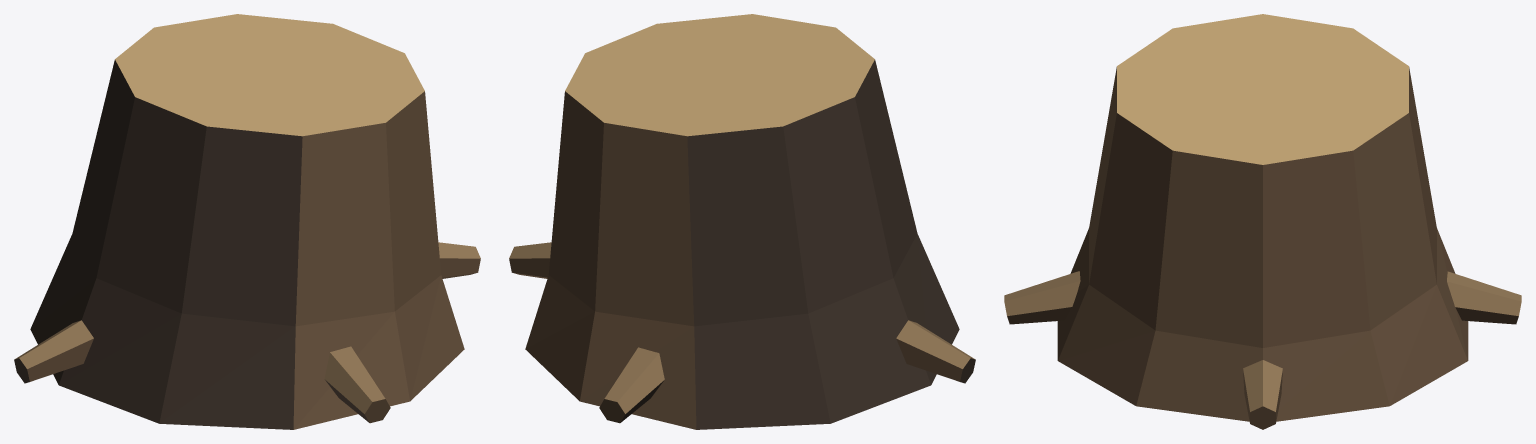
Rendered from TW_PROP_STUMP_ROUND_B_LOD0.glb.
3 renders of one model, left to right at view 1: azimuth 30°, elevation 25°; view 2: azimuth 150°, elevation 25°; view 3: azimuth 270°, elevation 25°, orthographic.
Parts seen in each view (by area): view 1: TW_PROP_STUMP_ROUND_B_LOD0; view 2: TW_PROP_STUMP_ROUND_B_LOD0; view 3: TW_PROP_STUMP_ROUND_B_LOD0.
Boxes of the visible parts, box(x1,y1,x2,y2) form: TW_PROP_STUMP_ROUND_B_LOD0: box(14, 14, 480, 429); TW_PROP_STUMP_ROUND_B_LOD0: box(509, 14, 975, 429); TW_PROP_STUMP_ROUND_B_LOD0: box(1004, 14, 1521, 429).
Size of the model in its own units: 1.22 by 0.6881 by 1.22.
Materials: 1 (1 with a texture image).
